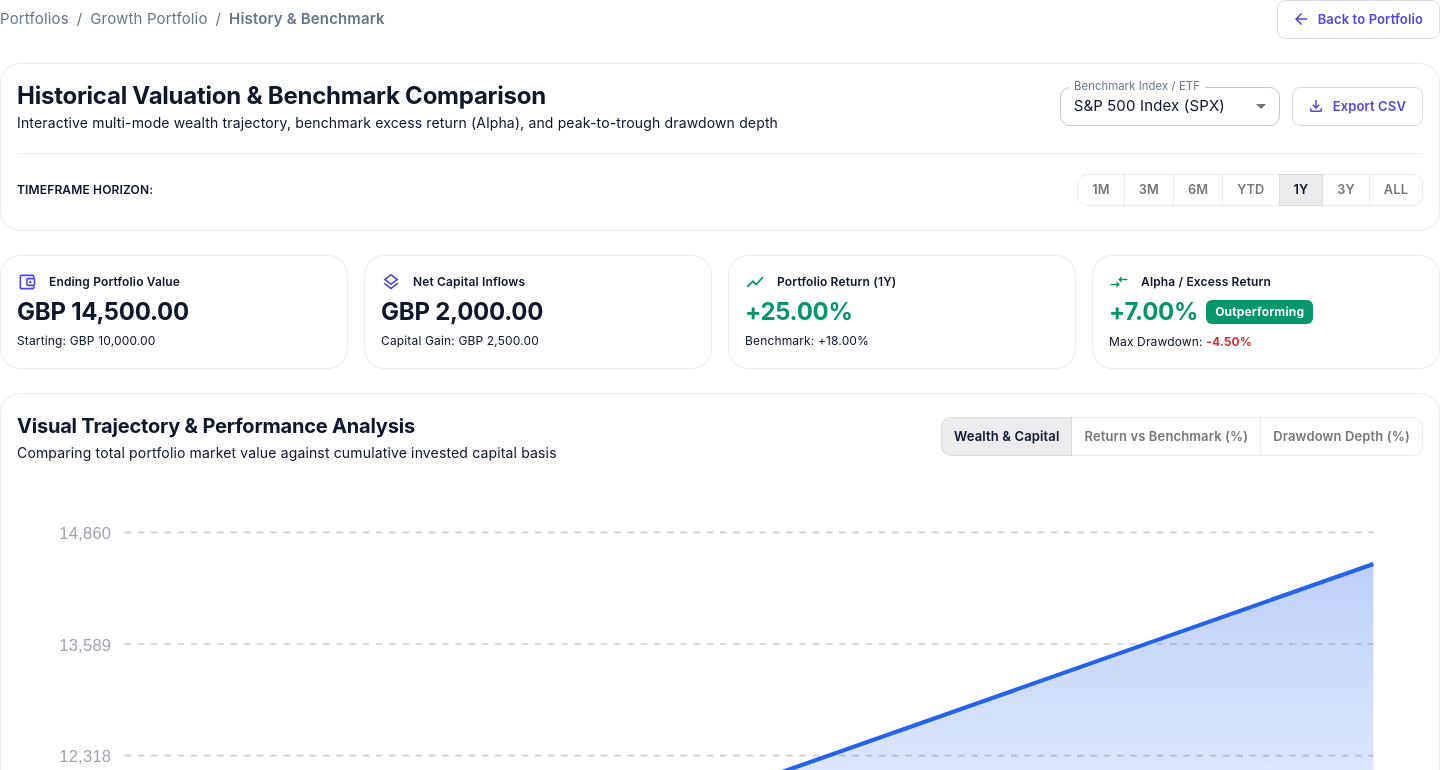
Test: HistoryDetailPage Component Suite › allows switching chart modes to Return vs Benchmark and Drawdown Depth
Expected: the heading "Historical Valuation & Benchmark Comparison" is shown, [17, 81, 546, 110]
Toggle Return mode
Click the button "Return vs Benchmark (%)": (1166, 437) [1072, 417, 1261, 456]
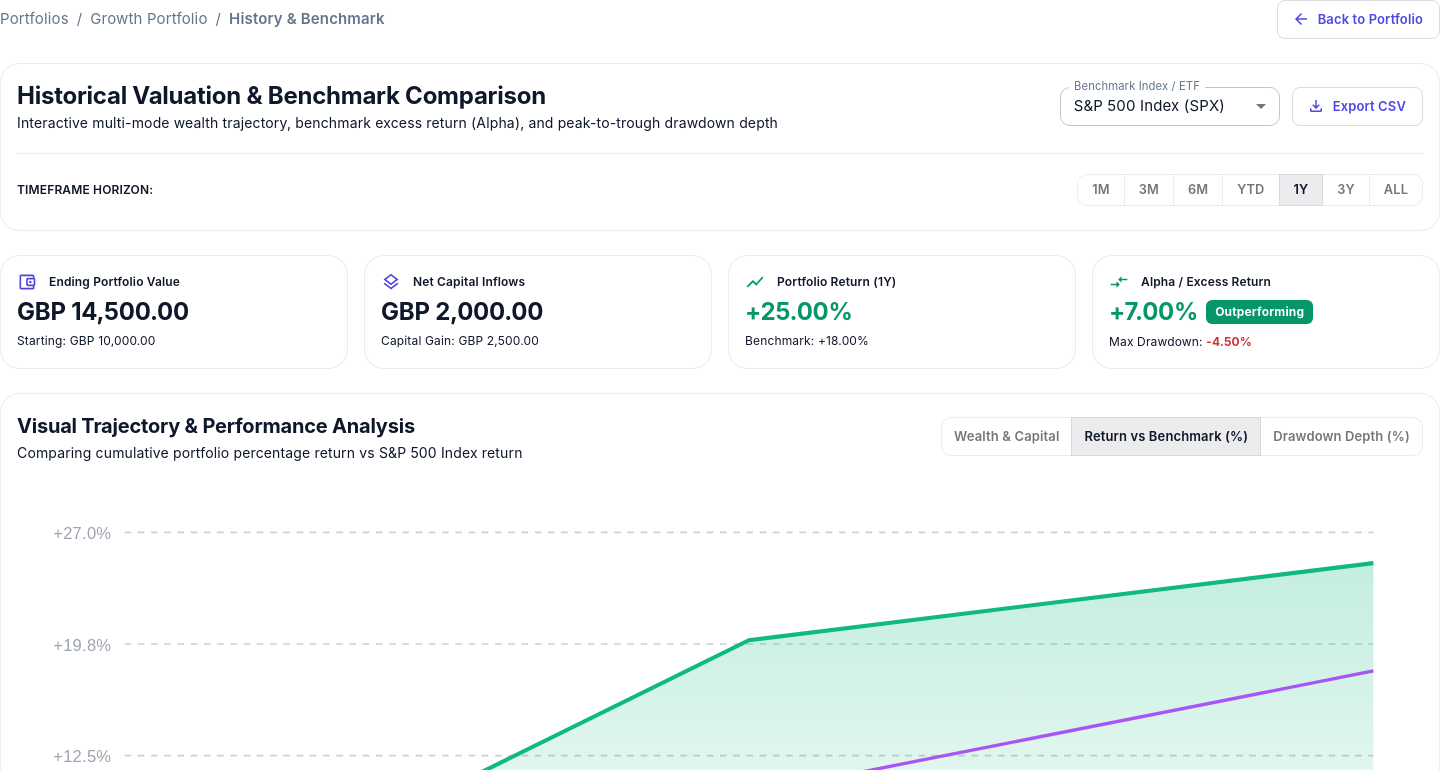
Toggle Drawdown Depth mode
Click the button "Drawdown Depth (%)": (1342, 437) [1260, 417, 1423, 456]
(page scrolled)
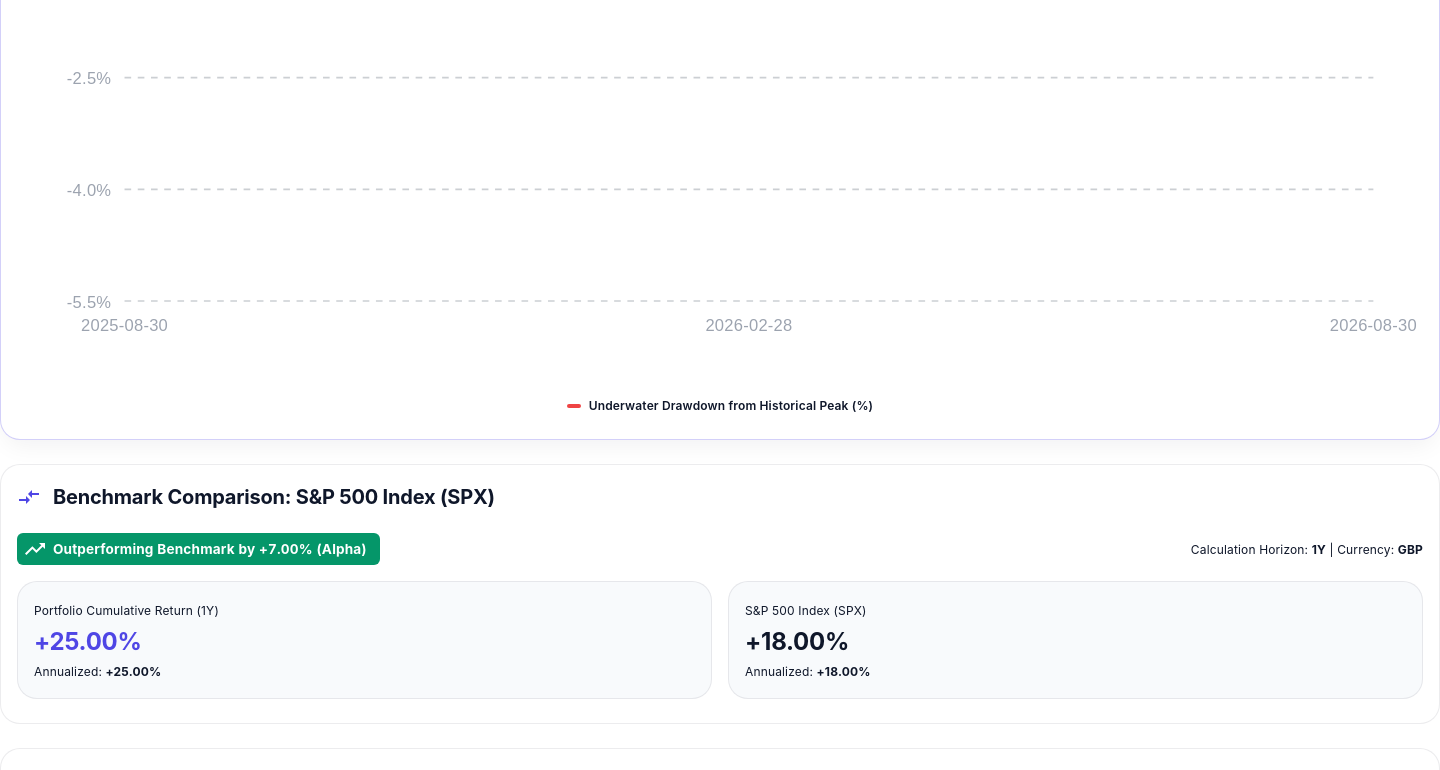
Now the text "Underwater Drawdown from Historical Peak (%)" is shown, box [589, 396, 873, 416]
